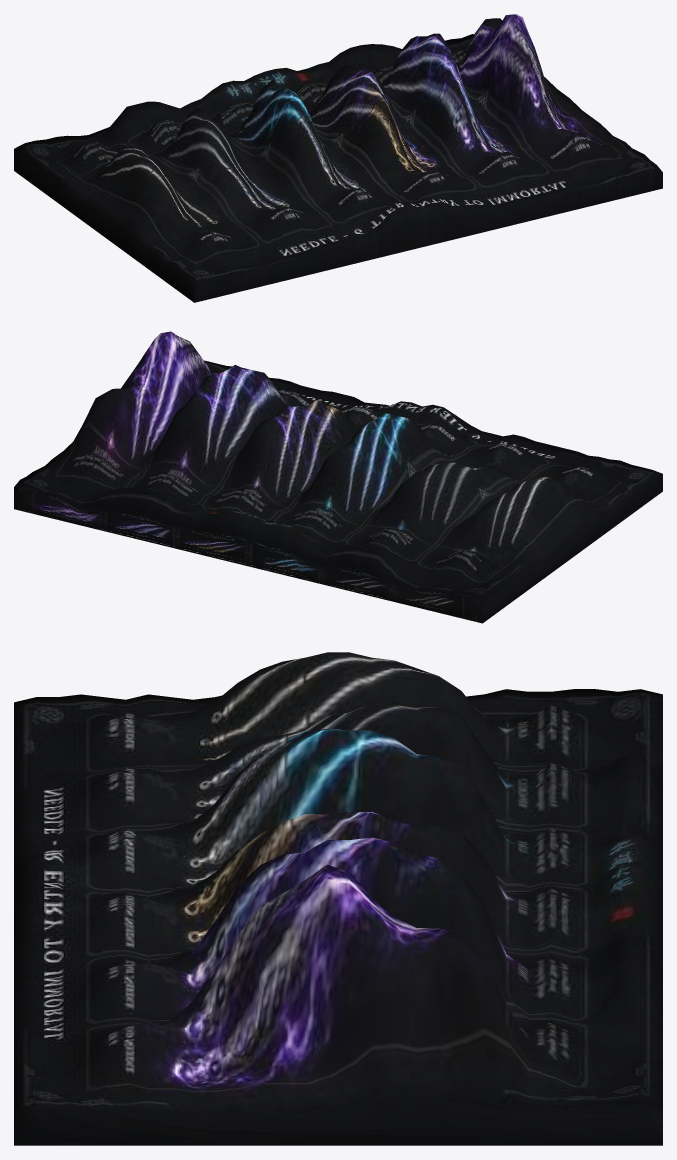
File: ARSENAL_Needle_6Tier.glb
3 renders of one model, top to bottom at view 1: azimuth 30°, elevation 25°; view 2: azimuth 150°, elevation 25°; view 3: azimuth 270°, elevation 25°, orthographic. The views are drawn at different scales.
Visible parts, largest first — view 1: ARSENAL_Needle_6Tier; view 2: ARSENAL_Needle_6Tier; view 3: ARSENAL_Needle_6Tier.
Part boxes in pixels (box(x1,y1,x2,y2)): ARSENAL_Needle_6Tier: box(14, 14, 662, 302); ARSENAL_Needle_6Tier: box(14, 331, 662, 623); ARSENAL_Needle_6Tier: box(14, 652, 662, 1145).
Bounding box in the file's own units: 2 × 0.51 × 1.33.
Materials: 1 (1 with a texture image).
